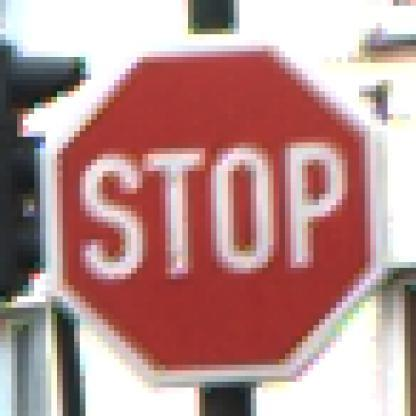Stop: (49, 38, 382, 378)
